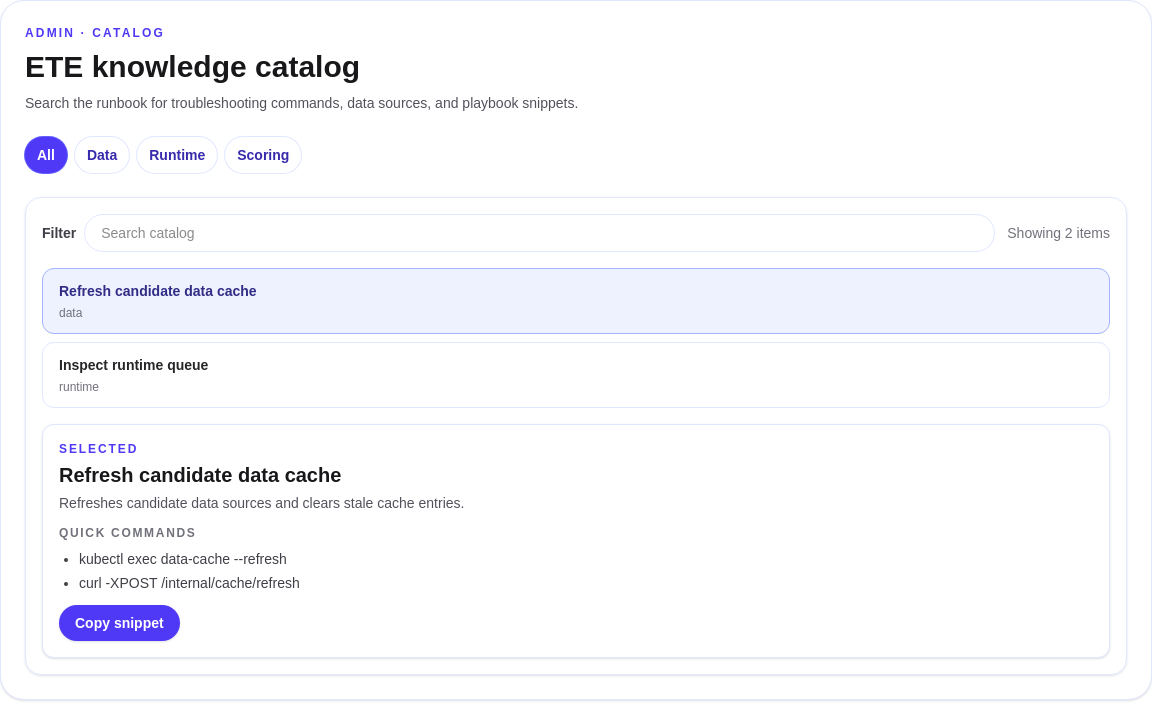
Test case: CatalogPageClient › updates the details panel when selecting an item
Click the list item "Inspect runtime queue runtime" at (134, 365), box [42,342,1110,408]
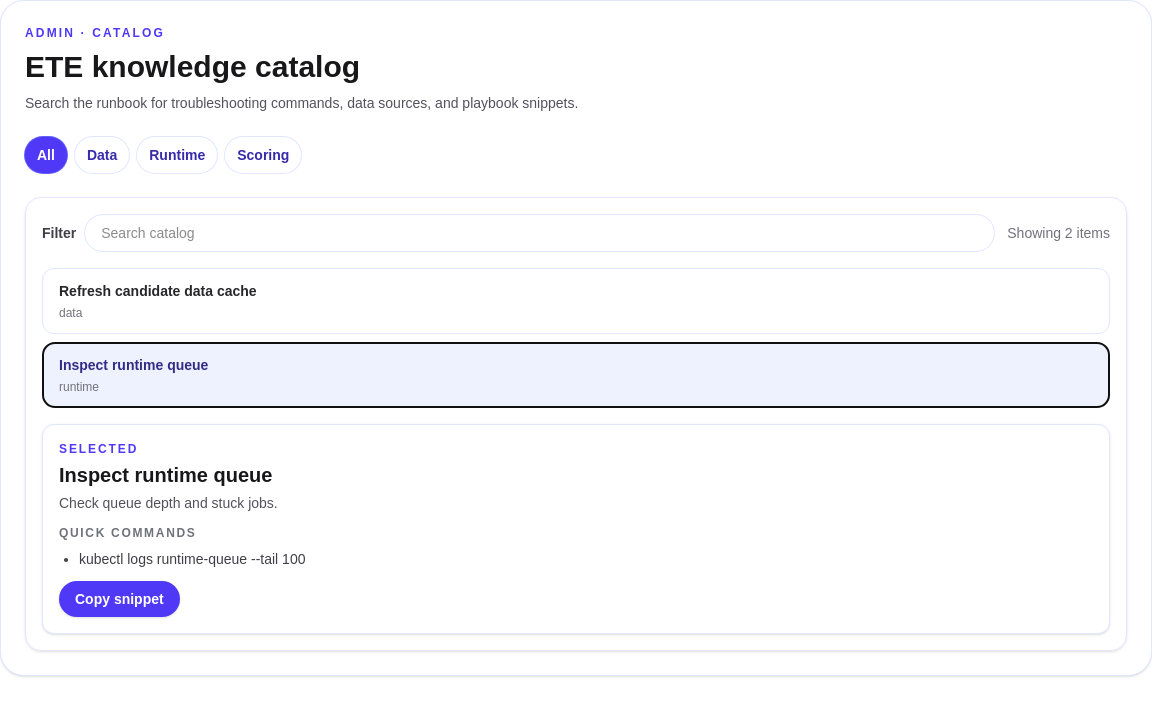
Check: the heading "Inspect runtime queue" is shown, box [59,464,272,486]
Check: the text "Check queue depth and stuck jobs." is shown, box [59,495,278,511]
